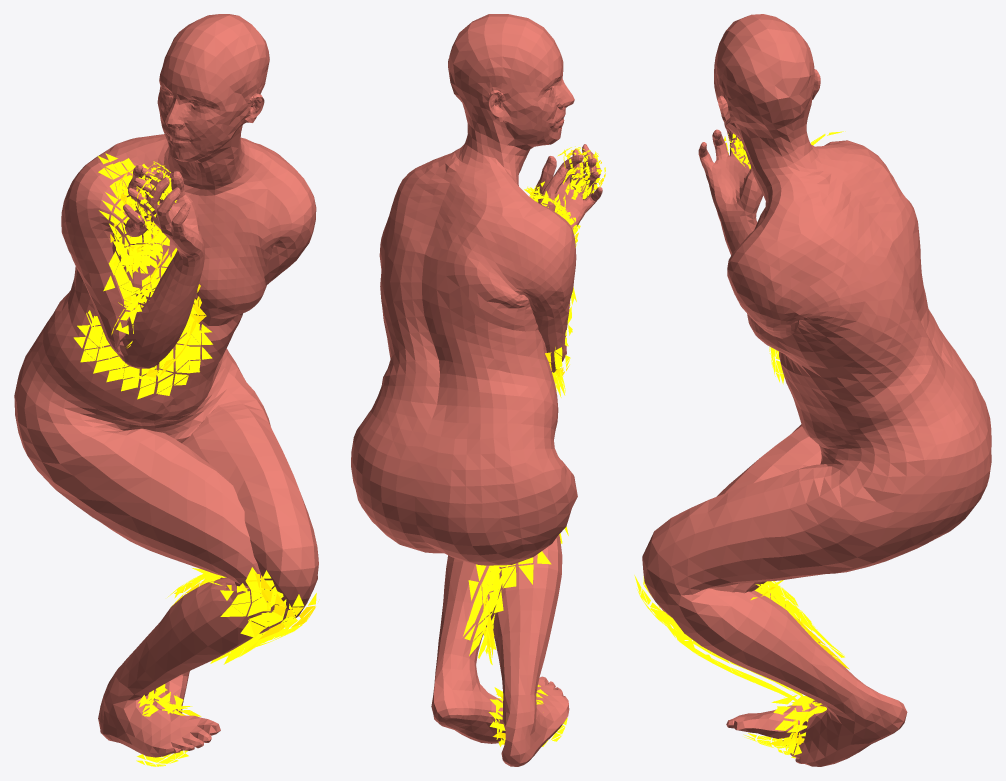
File: hwc_collision_02.glb
3 views of the same model, side by side, from view 1: azimuth 30°, elevation 25°; view 2: azimuth 150°, elevation 25°; view 3: azimuth 270°, elevation 25° (orthographic). The views are drawn at different scales.
Parts seen in each view (by area): view 1: hwc_collision, collision_marker; view 2: hwc_collision, collision_marker; view 3: hwc_collision, collision_marker.
Part boxes in pixels (x1,y1,x2,y2): hwc_collision: (14,14,318,757); collision_marker: (73,153,319,766); hwc_collision: (351,14,602,766); collision_marker: (463,146,605,746); hwc_collision: (642,14,991,766); collision_marker: (634,131,849,758).
Size of the model in its own units: 0.4363 by 1.35 by 0.5785.
